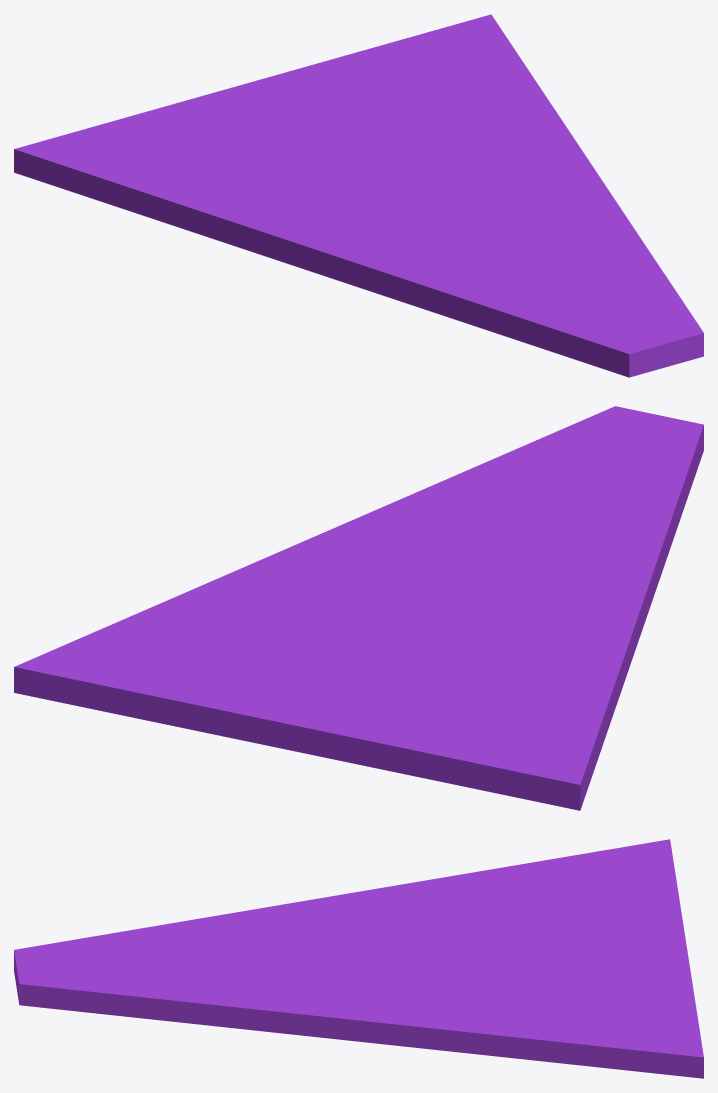
The model's file is StairsStep_18.fbx.
3 renders of one model, top to bottom at view 1: azimuth 30°, elevation 25°; view 2: azimuth 150°, elevation 25°; view 3: azimuth 270°, elevation 25°, orthographic. The views are drawn at different scales.
Visible parts, largest first — view 1: StairsStep_18; view 2: StairsStep_18; view 3: StairsStep_18.
Part boxes in pixels (bbox=[...]): StairsStep_18: bbox=[14, 14, 703, 377]; StairsStep_18: bbox=[14, 406, 703, 810]; StairsStep_18: bbox=[14, 839, 703, 1078].
Bounding box in the file's own units: 396 × 17.94 × 529.
